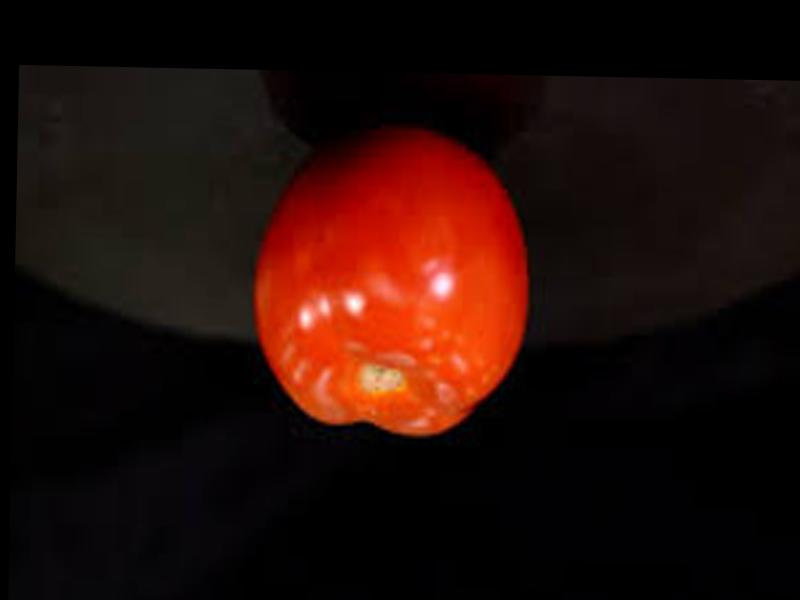Tomato: (249, 122, 535, 442)
